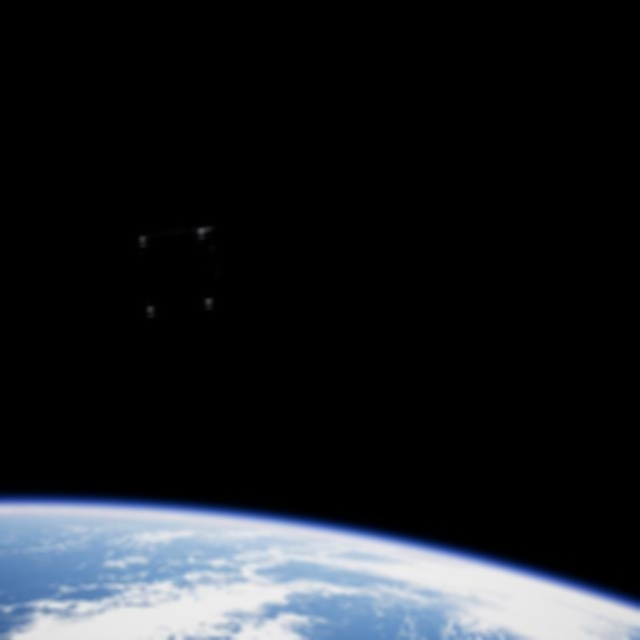medium_debris: (135, 218, 225, 320)
